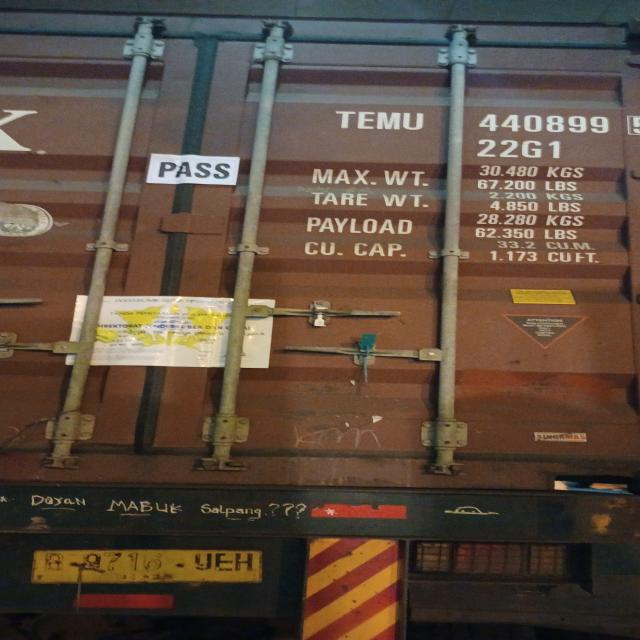seal: (356, 332, 380, 381), (305, 304, 340, 328)
